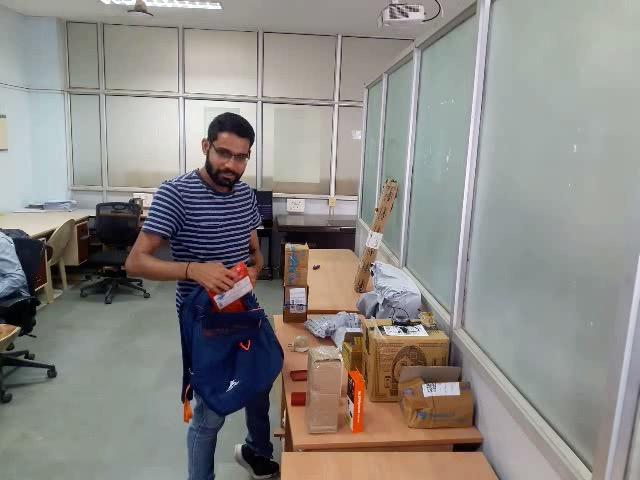shoplifting: (116, 201, 312, 480)
